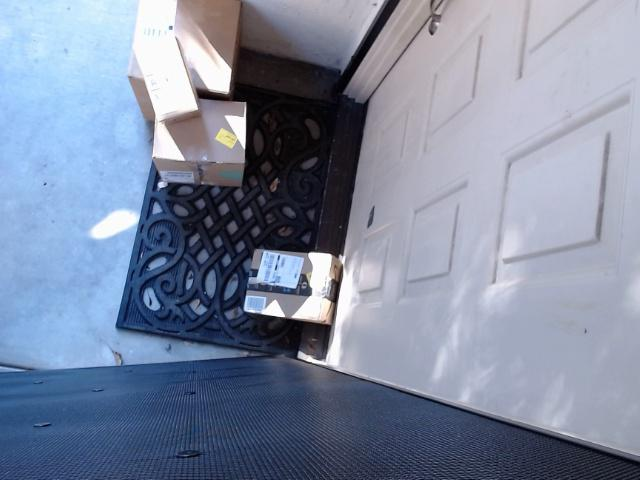box: (107, 0, 257, 105), (242, 232, 350, 350), (145, 101, 275, 197), (130, 30, 203, 125)
